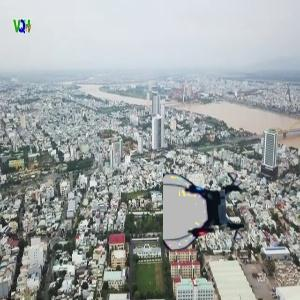drone: (164, 168, 250, 254)
